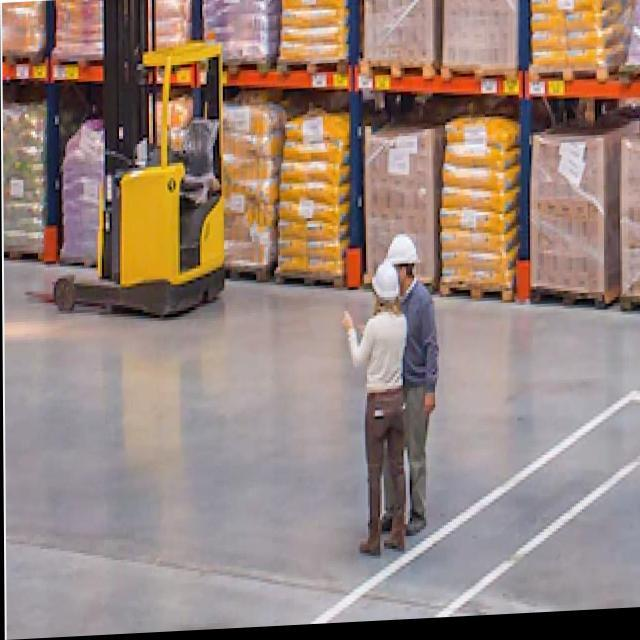hard_hat: (382, 226, 420, 285), (369, 256, 403, 314)
shoes: (364, 494, 429, 541), (355, 523, 409, 560)
